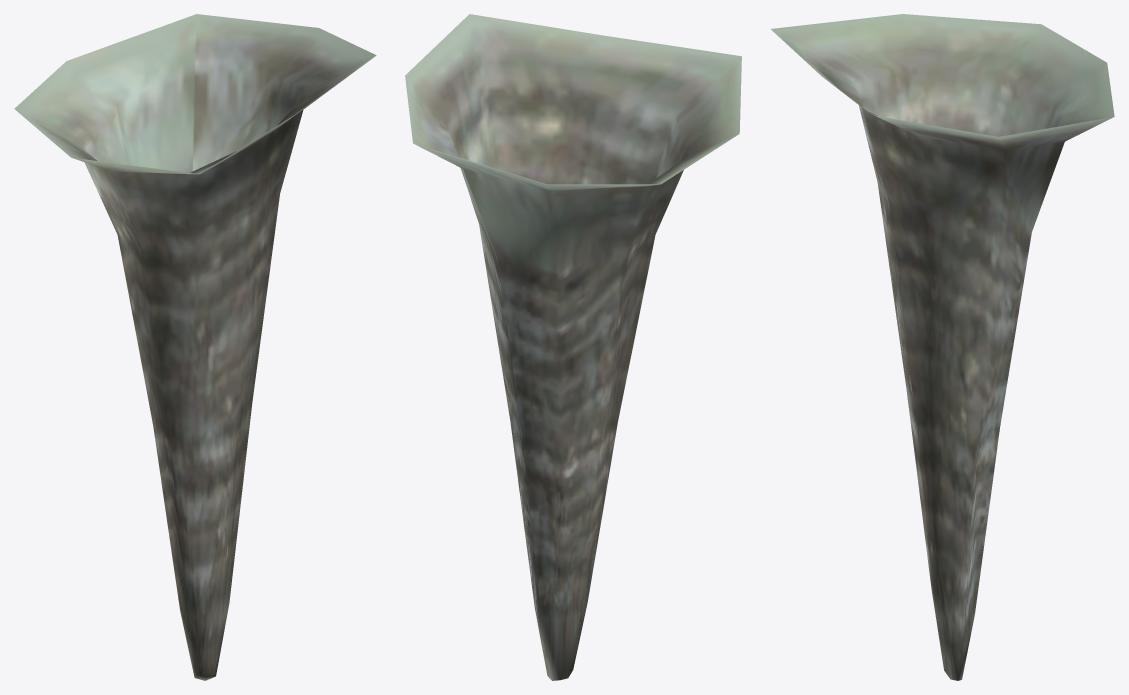
Rendered from TROLLHOLE02_PS-UPPERSTALAG12.fbx.
The picture shows the model from 3 angles, left to right: view 1: azimuth 30°, elevation 25°; view 2: azimuth 150°, elevation 25°; view 3: azimuth 270°, elevation 25°; orthographic projection. The views are drawn at different scales.
Visible parts, largest first — view 1: TROLLHOLE02_PS-UPPERSTALAG12; view 2: TROLLHOLE02_PS-UPPERSTALAG12; view 3: TROLLHOLE02_PS-UPPERSTALAG12.
Boxes of the visible parts, x1,y1,x2,y2 form: TROLLHOLE02_PS-UPPERSTALAG12: (14, 14, 376, 680); TROLLHOLE02_PS-UPPERSTALAG12: (405, 14, 741, 680); TROLLHOLE02_PS-UPPERSTALAG12: (771, 14, 1114, 680).
Size of the model in its own units: 13307 by 26729 by 13289.
1 material, 1 textured.
